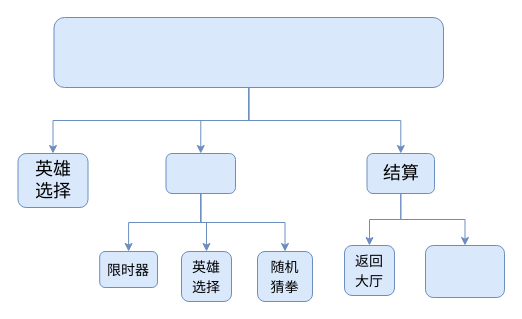
This 522x319 diagram has some shape labels left out. The box of each missing label's shape, as (x1, y1, x2, y2) in pixels:
对局: (165, 152, 236, 194)
展示并保存每局信息: (424, 244, 504, 298)
游戏对局系统功能框架图: (53, 16, 444, 88)
